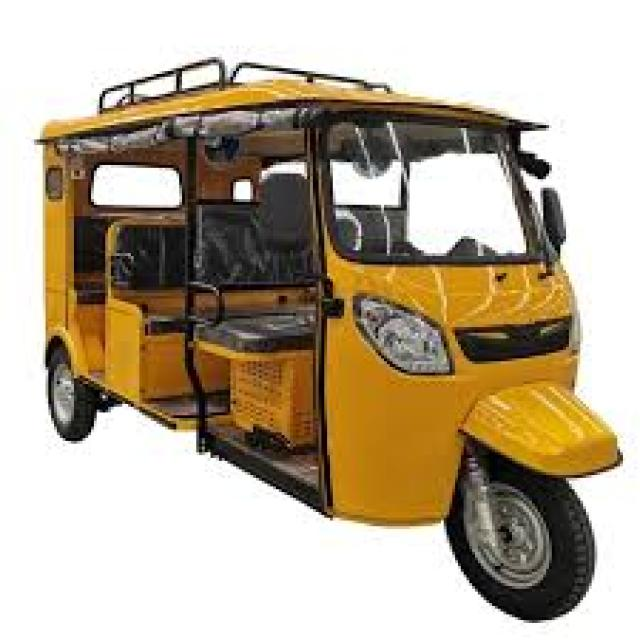tuktuk: (14, 34, 640, 629)
